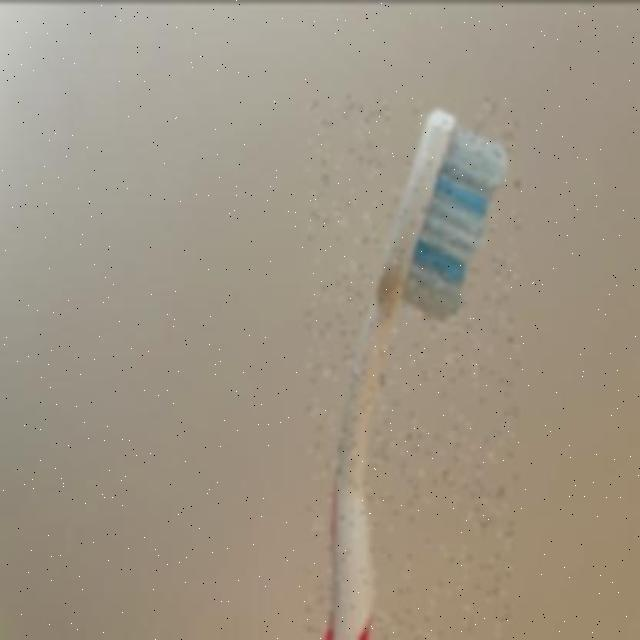toothbrush: (308, 96, 518, 640)
